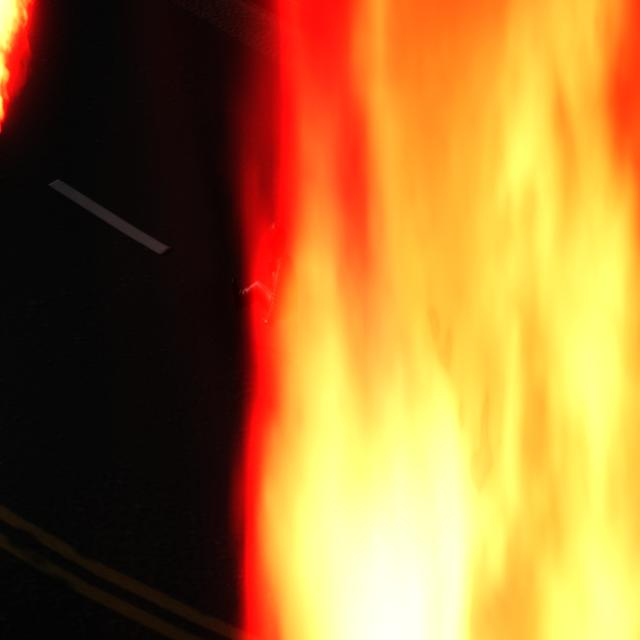Human: (232, 222, 302, 342)
